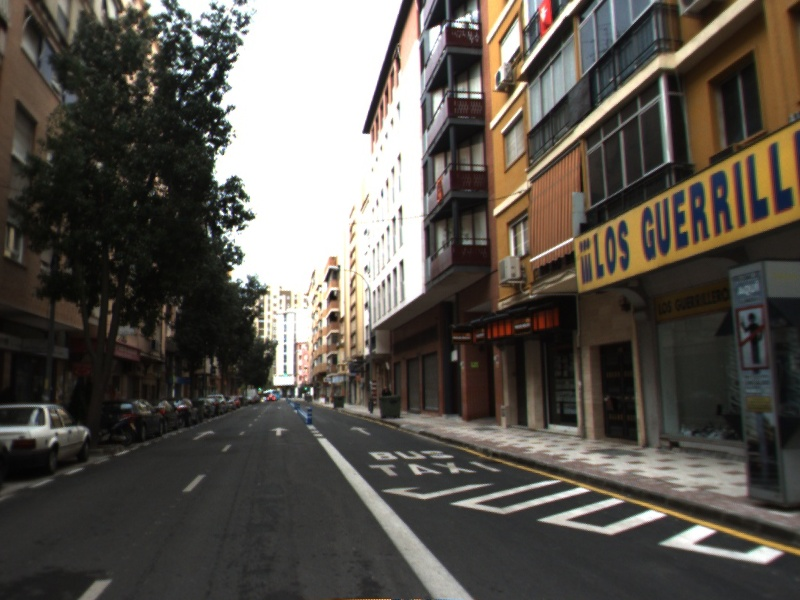STRAIGHT: (191, 428, 217, 442), (267, 425, 292, 438), (348, 424, 373, 437)
